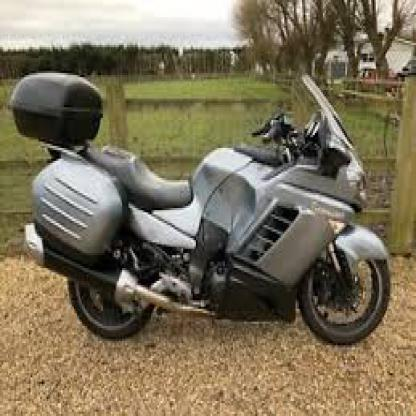Motorcycle: (10, 48, 395, 352)
